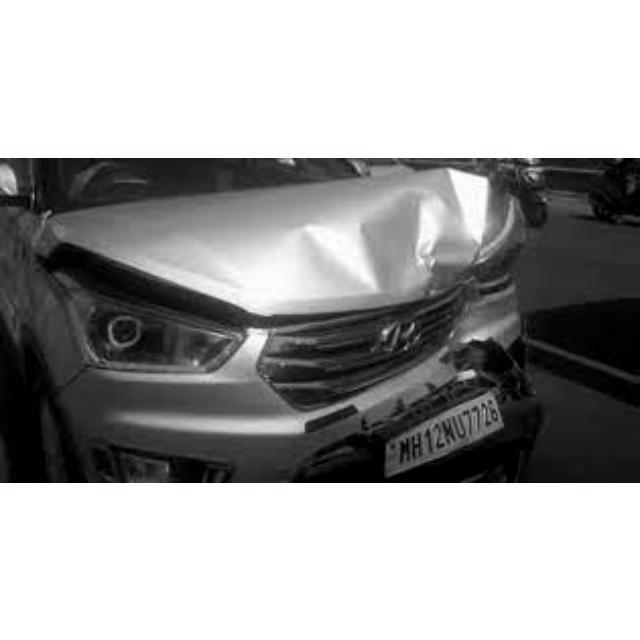bonnet-dent: (49, 167, 524, 317)
front-bumper-dent: (94, 318, 545, 458)
